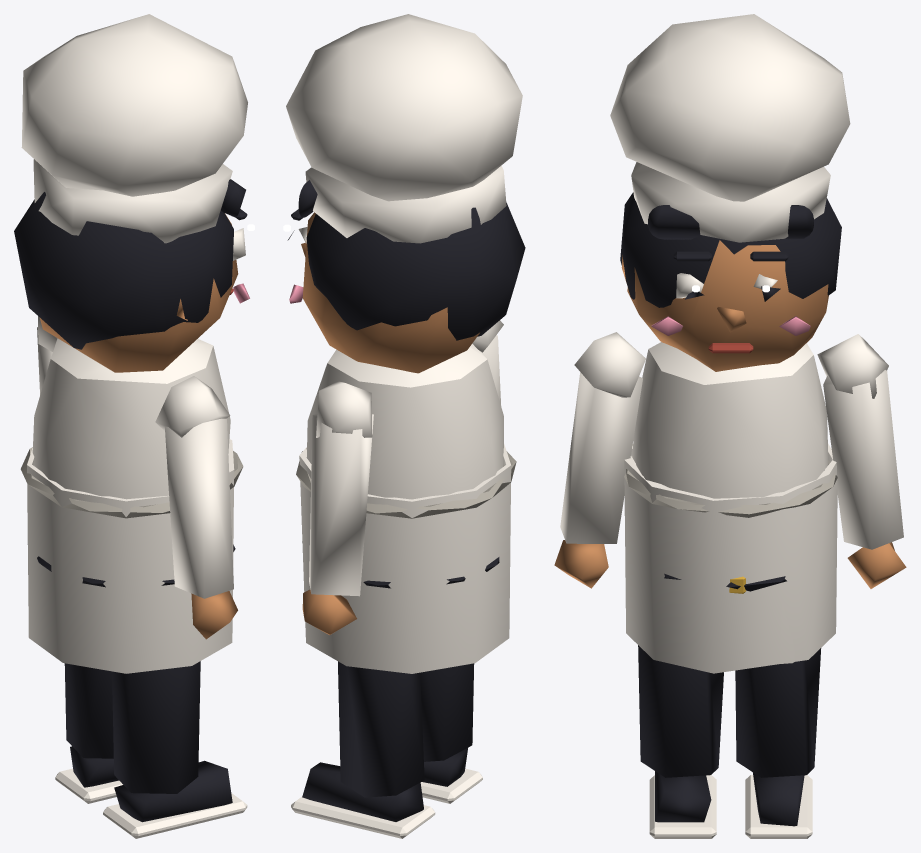
The model's file is ped_chef.glb.
3 renders of one model, left to right at view 1: azimuth 30°, elevation 25°; view 2: azimuth 150°, elevation 25°; view 3: azimuth 270°, elevation 25°, orthographic.
Parts seen in each view (by area): view 1: ped_chef; view 2: ped_chef; view 3: ped_chef.
Part boxes in pixels (x1,y1,x2,y2): ped_chef: (14, 14, 254, 838); ped_chef: (283, 14, 525, 838); ped_chef: (554, 14, 906, 838).
Size of the model in its own units: 0.4648 by 1.64 by 0.6731.
1 material, 1 textured.
